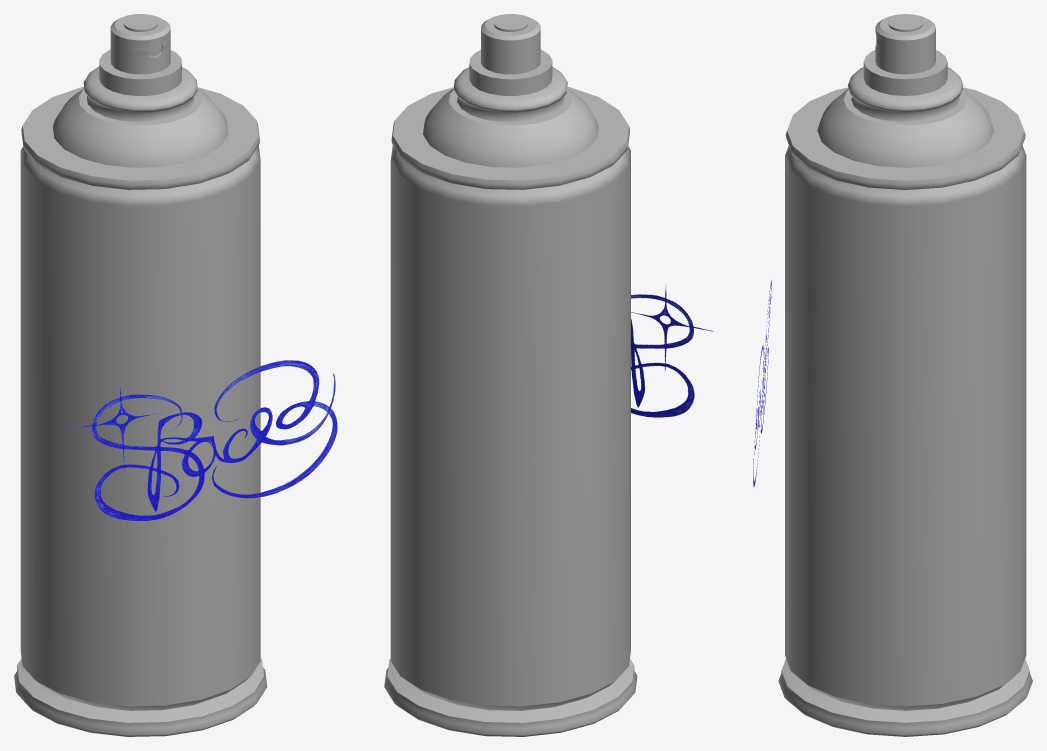
Rendered from spraycan3.glb.
3 renders of one model, left to right at view 1: azimuth 30°, elevation 25°; view 2: azimuth 150°, elevation 25°; view 3: azimuth 270°, elevation 25°, orthographic.
Visible parts, largest first — view 1: pCylinder1, logop; view 2: pCylinder1, logop; view 3: pCylinder1, logop.
Part boxes in pixels (left/top/right/bottom): pCylinder1: left=14, top=14, right=267, bottom=736; logop: left=70, top=360, right=337, bottom=521; pCylinder1: left=384, top=14, right=637, bottom=736; logop: left=631, top=285, right=713, bottom=417; pCylinder1: left=778, top=14, right=1032, bottom=736; logop: left=753, top=279, right=772, bottom=487.
Size of the model in its own units: 4.62 by 10.34 by 4.01.
Materials: 3 (1 with a texture image).
